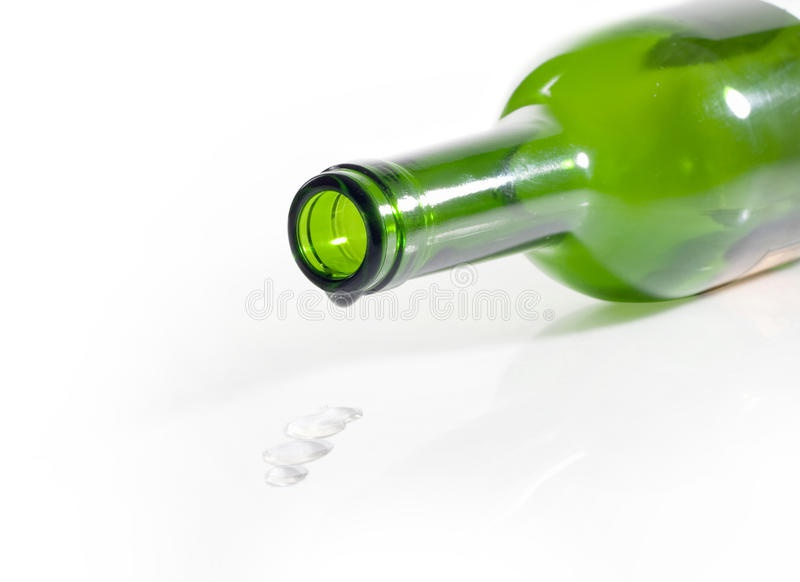emptybottle: (287, 1, 797, 302)
